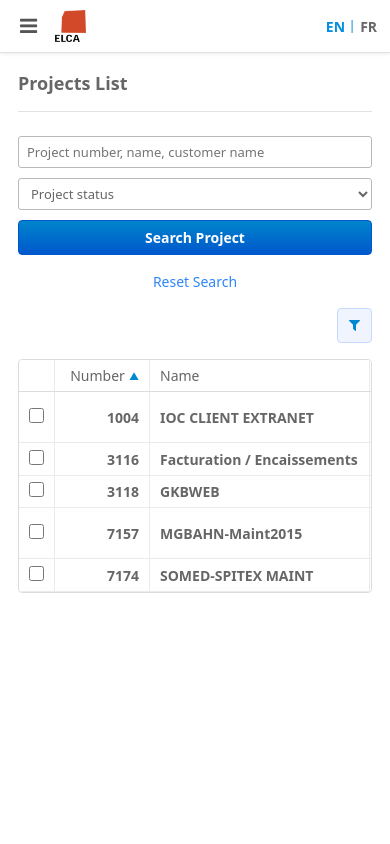
Scenario: Mobile Navigation Drawer & Touch Gestures Unit & Integration Tests › toggling sidebar in MainLayout opens drawer and displays backdrop
Note: Click hamburger button to open drawer
Click the button with test id "header-hamburger-btn" at (29, 26), box [12,8,45,44]
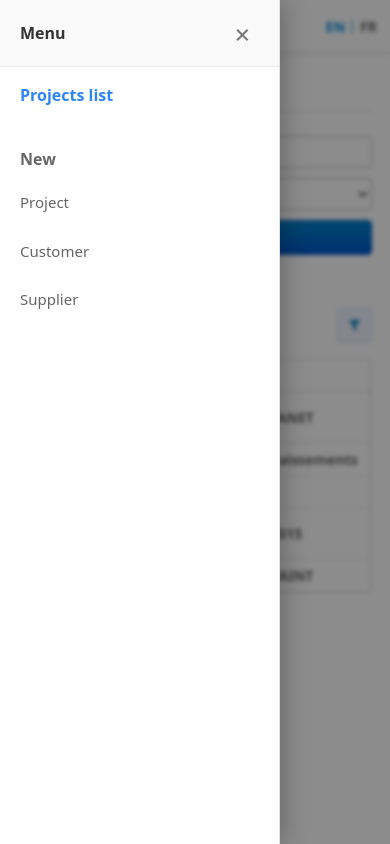
Now the element with test id "sidebar-backdrop" is shown
Note: Clicking backdrop closes drawer
Click the element with test id "sidebar-backdrop" at (367, 422), box [0,0,389,843]
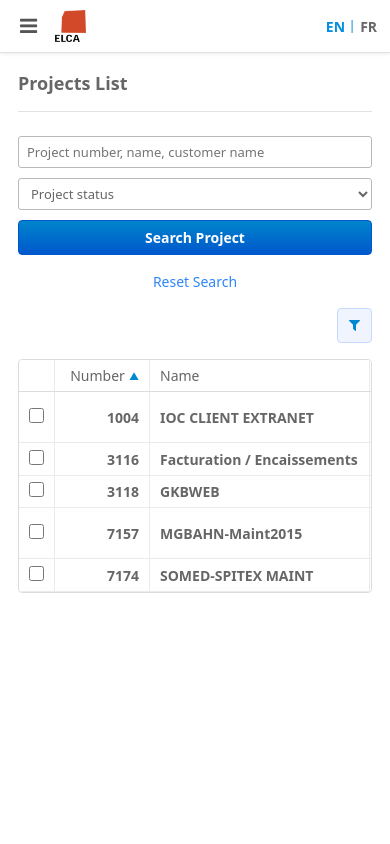
Now the element with test id "sidebar-backdrop" is gone
